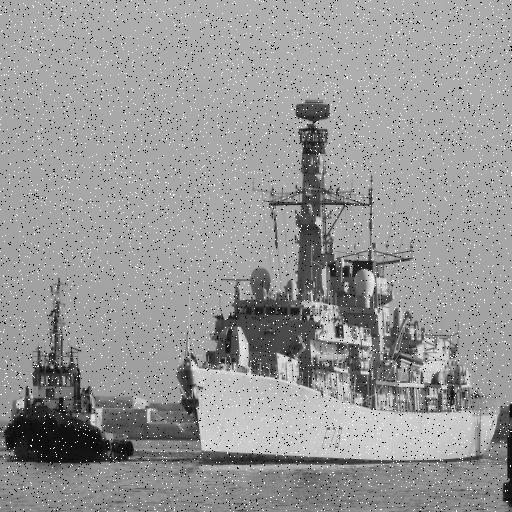Fragata: (175, 87, 504, 472)
